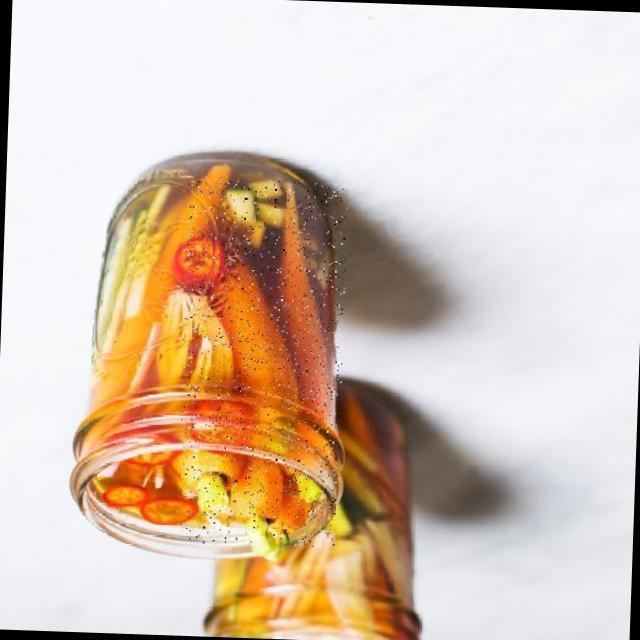Zanahoria: (174, 177, 347, 546)
